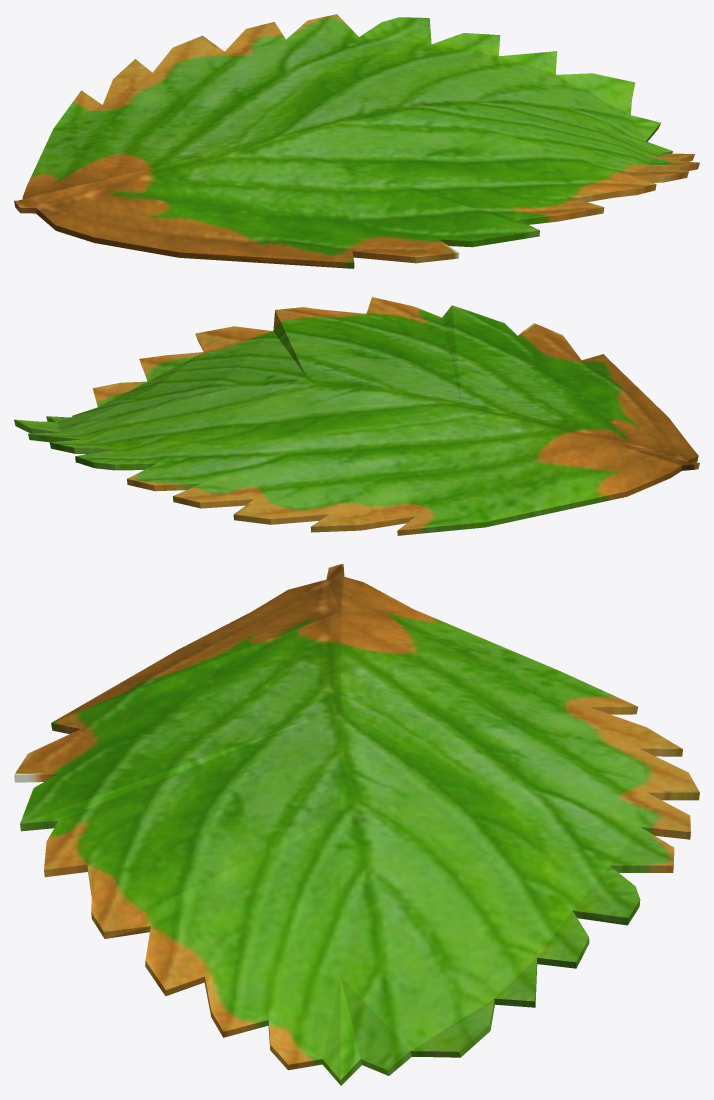
The model's file is leaf4_s2.dae.
3 renders of one model, top to bottom at view 1: azimuth 30°, elevation 25°; view 2: azimuth 150°, elevation 25°; view 3: azimuth 270°, elevation 25°, orthographic. The views are drawn at different scales.
Visible parts, largest first — view 1: Plane; view 2: Plane; view 3: Plane.
Part boxes in pixels (<box>): Plane: <box>14,14,699,268</box>; Plane: <box>14,297,699,535</box>; Plane: <box>14,564,699,1085</box>.
Size of the model in its own units: 0.1374 by 0.1018 by 0.0227.
Materials: 1 (1 with a texture image).
